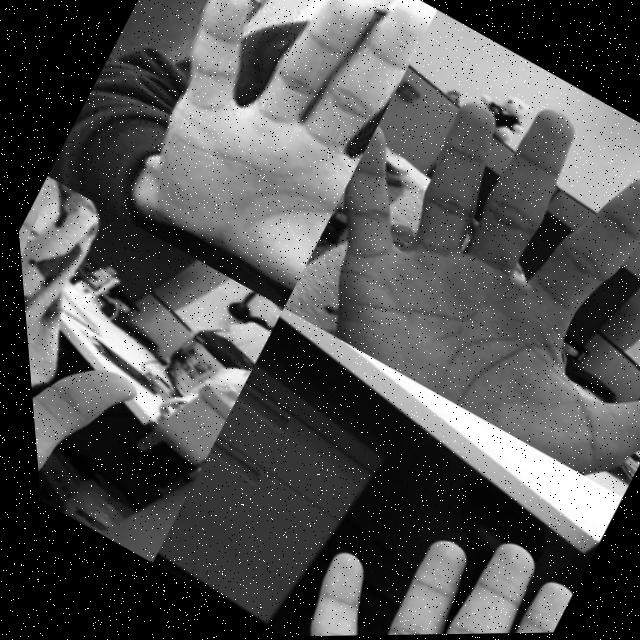hand: (261, 33, 640, 503), (85, 0, 454, 302), (11, 175, 215, 519), (267, 464, 574, 637)
